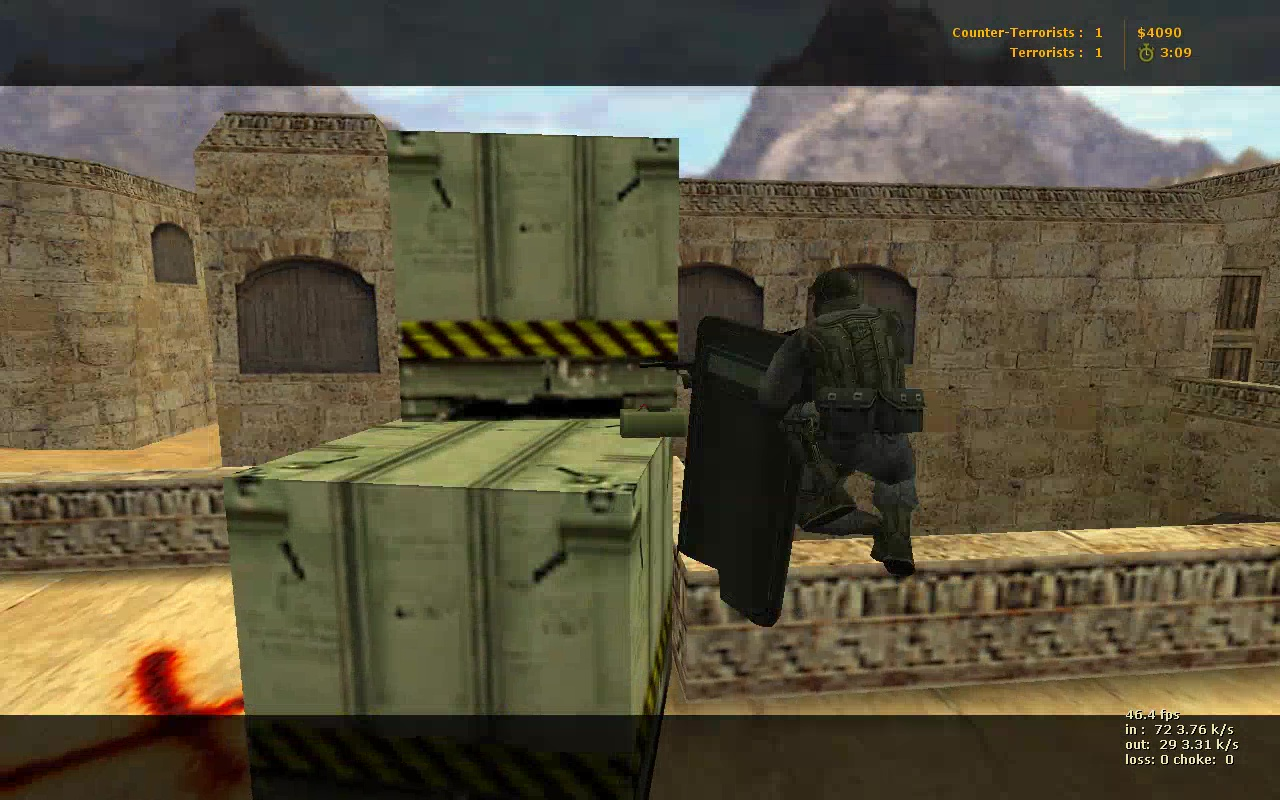ct: (687, 259, 920, 622)
